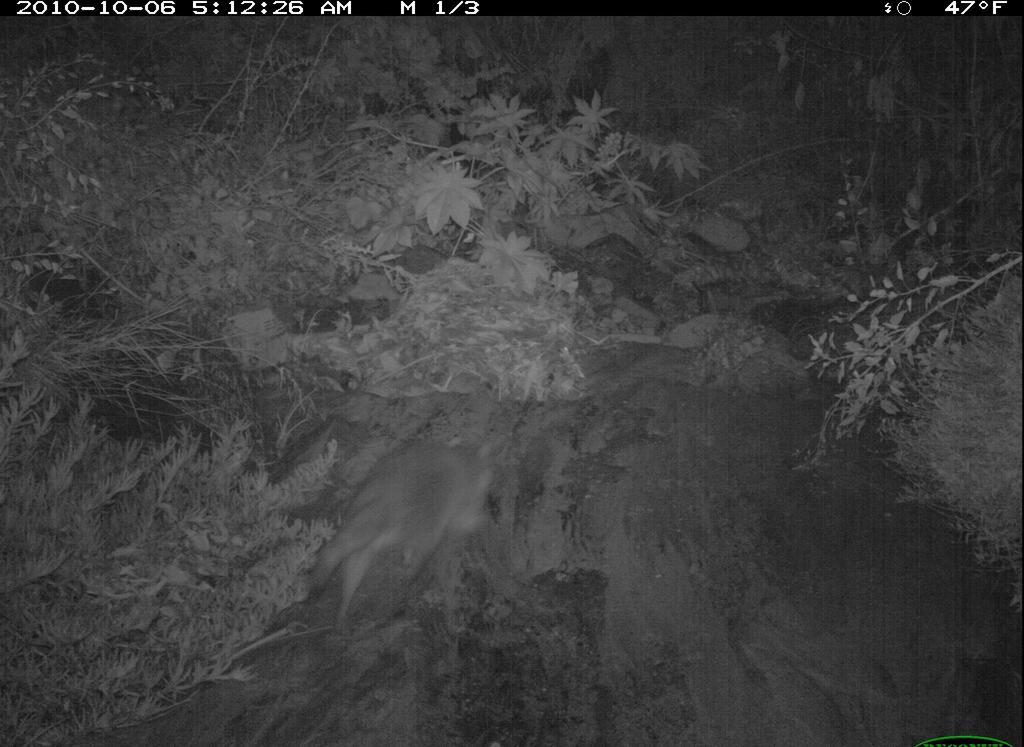raccoon: (300, 428, 506, 635)
